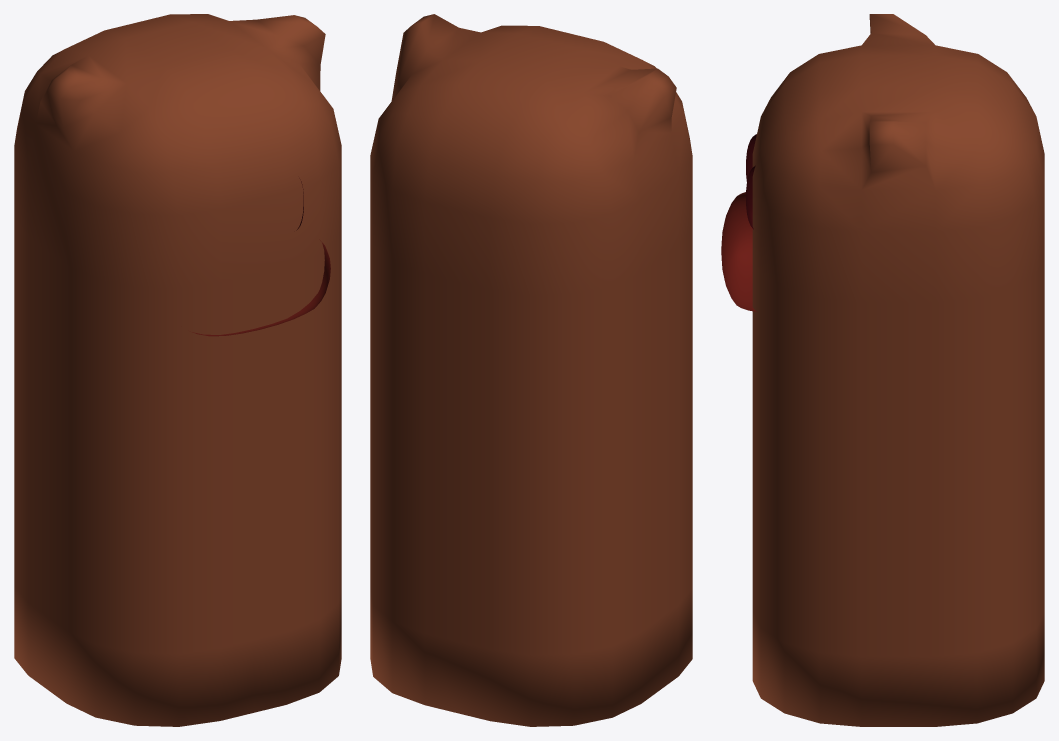
The model's file is Moley.fbx.
3 views of the same model, side by side, from view 1: azimuth 30°, elevation 25°; view 2: azimuth 150°, elevation 25°; view 3: azimuth 270°, elevation 25° (orthographic). The views are drawn at different scales.
Visible parts, largest first — view 1: MoleBody; view 2: MoleBody; view 3: MoleBody.
Boxes of the visible parts, x1,y1,x2,y2 form: MoleBody: (14,14,341,726); MoleBody: (370,14,692,726); MoleBody: (721,14,1044,726).
Size of the model in its own units: 0.0699 by 0.1552 by 0.0762.
